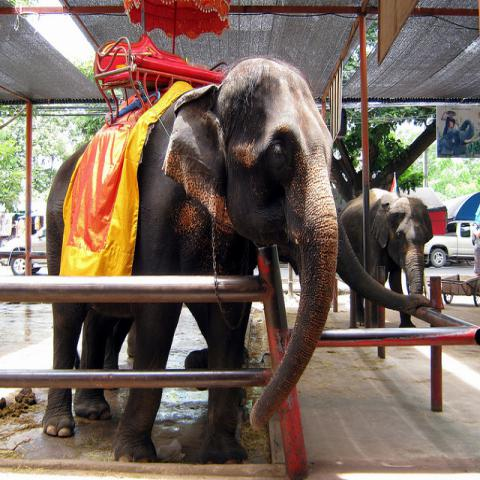car: (0, 224, 49, 274)
truck: (423, 220, 479, 266)
